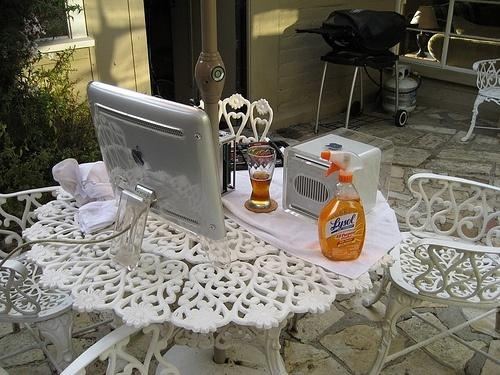chair: (363, 174, 500, 375), (1, 184, 77, 374), (461, 60, 500, 142)
tvmonitor: (89, 82, 227, 271)
